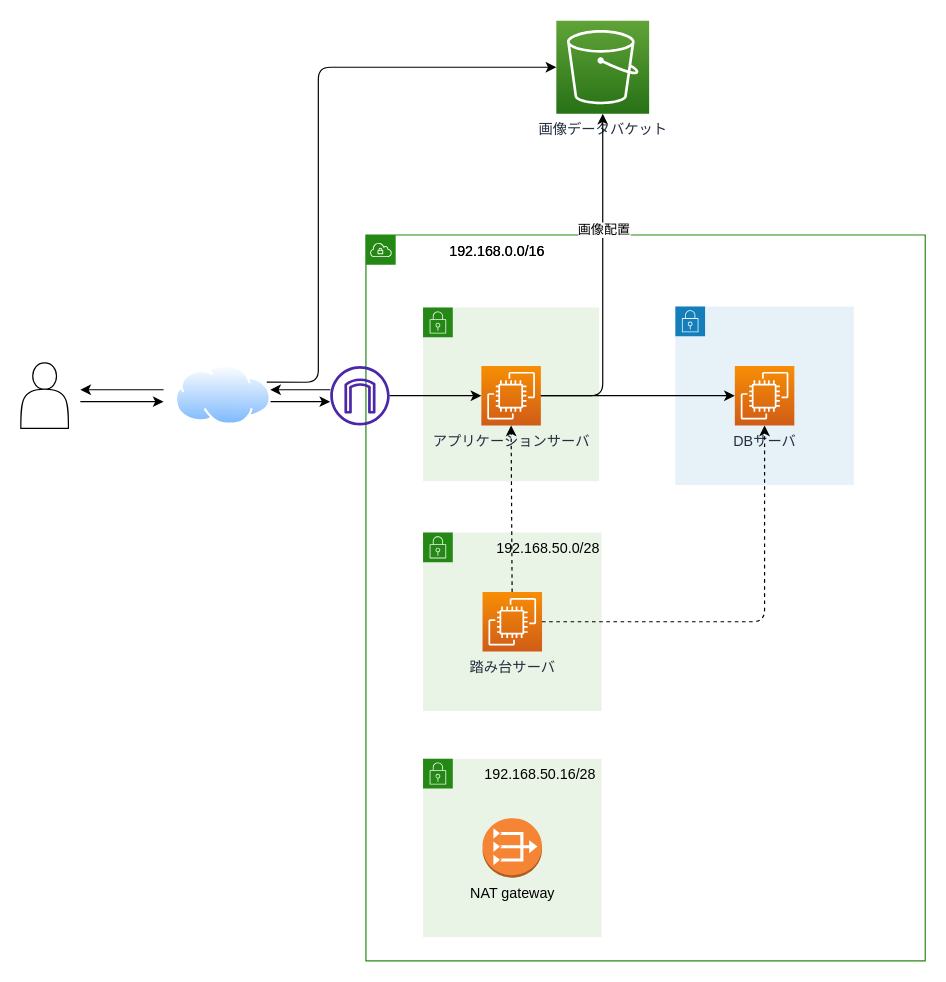
The diagram is 946 pixels wide and 982 high, and some of its shapes have lost their labels. The box of each missing label's shape, as (x1, y1, x2, y2) in pixels:
Public subnet: (422, 306, 599, 481)
VPC: (365, 234, 925, 961)
